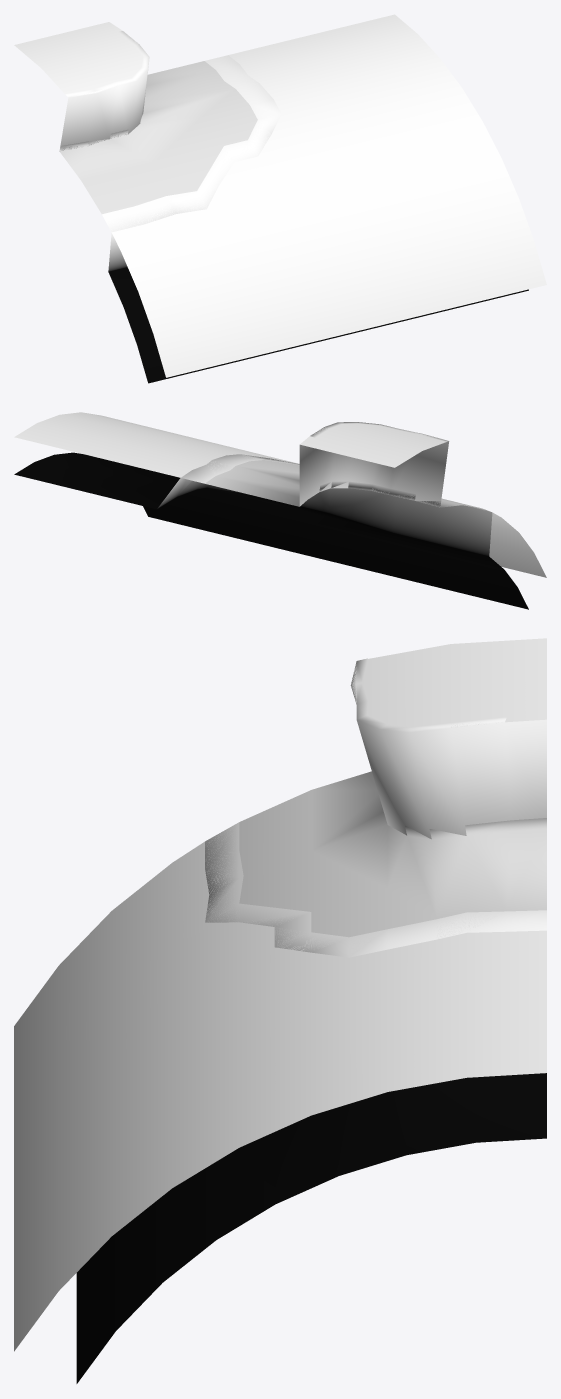
Rendered from grd_Mse_c_1.dae.
The picture shows the model from 3 angles, top to bottom: view 1: azimuth 30°, elevation 25°; view 2: azimuth 150°, elevation 25°; view 3: azimuth 270°, elevation 25°; orthographic projection. The views are drawn at different scales.
Parts seen in each view (by area): view 1: grd_Mse_c_1; view 2: grd_Mse_c_1; view 3: grd_Mse_c_1.
Part boxes in pixels (x1=…): grd_Mse_c_1: x1=14, y1=14, x2=546, y2=383; grd_Mse_c_1: x1=14, y1=412, x2=546, y2=609; grd_Mse_c_1: x1=14, y1=638, x2=546, y2=1383.
Size of the model in its own units: 512 by 308 by 354.
Materials: 6 (1 with a texture image).
